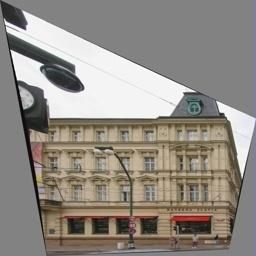building: (44, 70, 245, 256)
